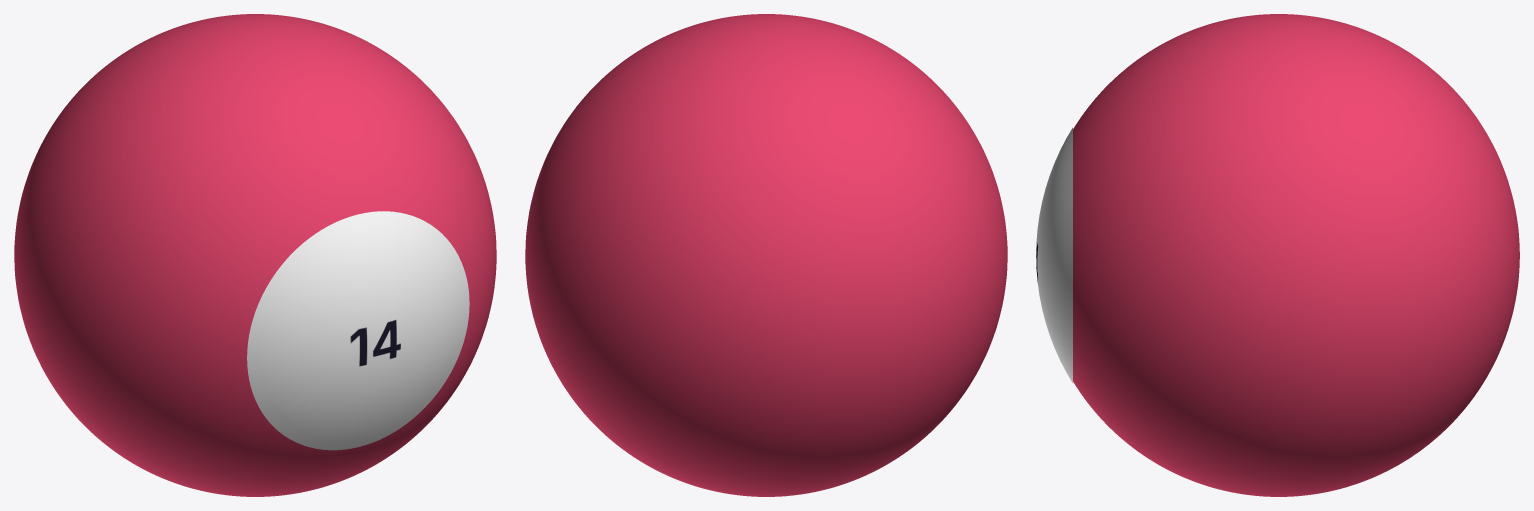
Rendered from ball-14.glb.
The picture shows the model from 3 angles, left to right: view 1: azimuth 30°, elevation 25°; view 2: azimuth 150°, elevation 25°; view 3: azimuth 270°, elevation 25°; orthographic projection.
Visible parts, largest first — view 1: Ball_14_Shell, Ball_14_Number_Disc; view 2: Ball_14_Shell; view 3: Ball_14_Shell, Ball_14_Number_Disc.
Part boxes in pixels (x1,y1,x2,y2): Ball_14_Shell: (14, 14, 496, 496); Ball_14_Number_Disc: (247, 211, 469, 450); Ball_14_Shell: (525, 14, 1007, 496); Ball_14_Shell: (1073, 14, 1519, 496); Ball_14_Number_Disc: (1036, 127, 1072, 383).
Size of the model in its own units: 1.84 by 1.84 by 1.84.
Materials: 2 (1 with a texture image).
